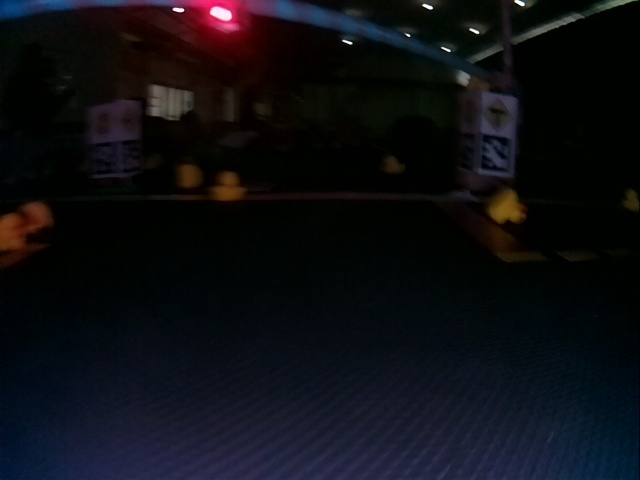Duckie: (488, 190, 526, 224), (210, 172, 244, 201), (624, 192, 639, 209)
Intersection sign: (483, 97, 513, 132)
QR code: (481, 140, 514, 174), (91, 142, 117, 175), (122, 140, 142, 175)
Traffic light: (204, 1, 242, 34)
